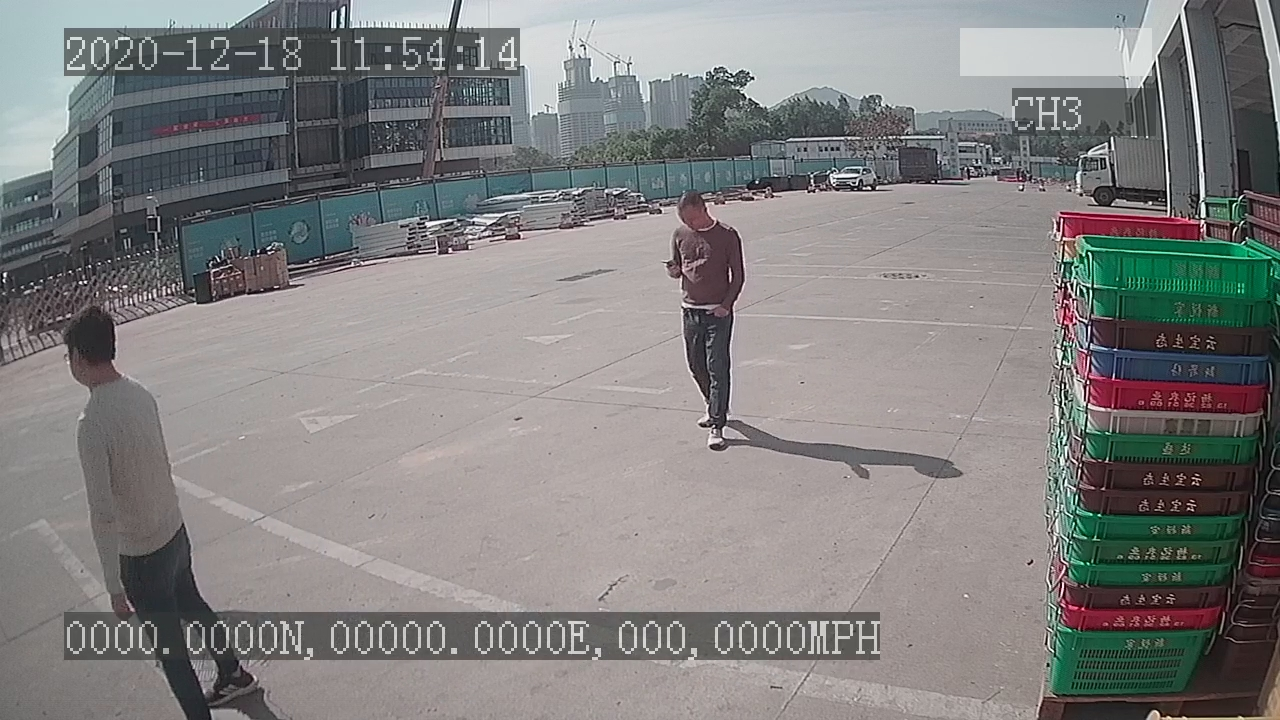person: (654, 179, 761, 456)
